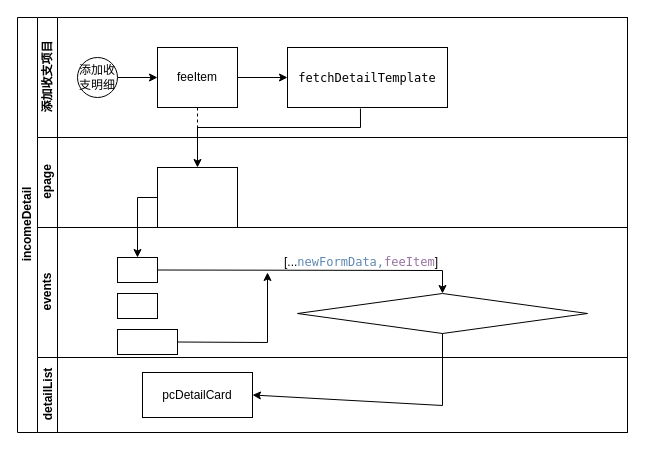
Some shapes in this 645 by 450 pixel diagram are drawn without their labels. Here are the shapes that lost their labels. From the top down, the centre of each, then its label:
the point at 197,197: 渲染Epage
the point at 137,269: 确定
the point at 137,305: 取消
the point at 442,313: mapIncomeDetailToCardProps
the point at 147,341: 再录一笔
